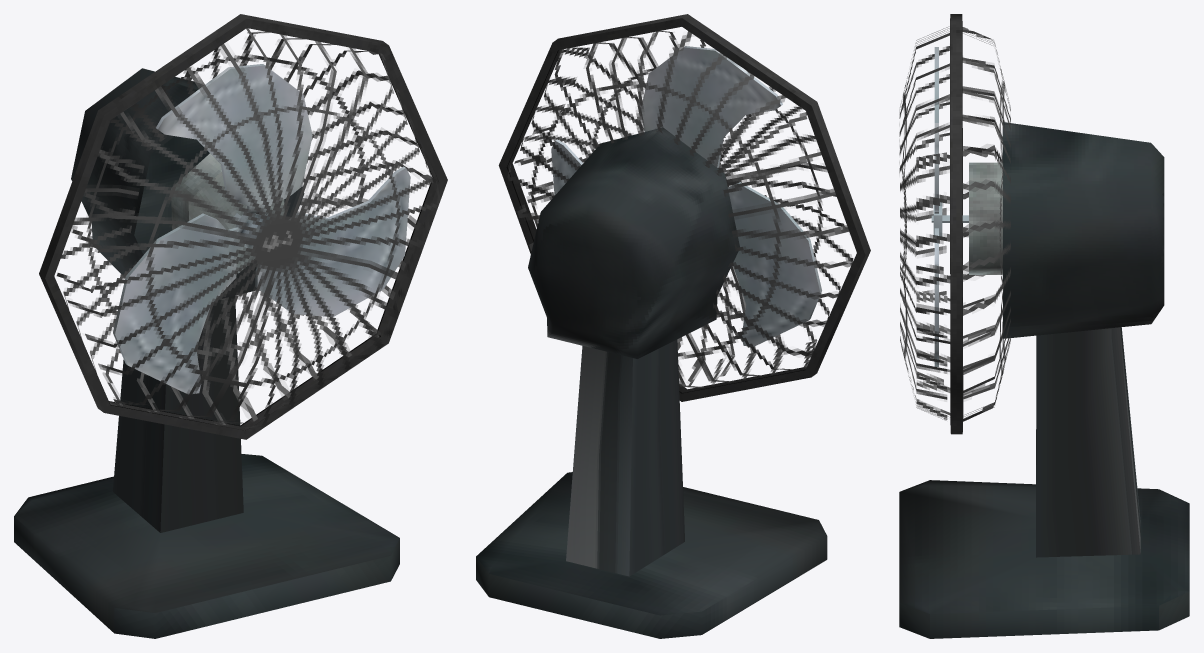
File: SmallFan.gltf
3 renders of one model, left to right at view 1: azimuth 30°, elevation 25°; view 2: azimuth 150°, elevation 25°; view 3: azimuth 270°, elevation 25°, orthographic. The views are drawn at different scales.
Parts seen in each view (by area): view 1: Ventilator_01.001, blades_02; view 2: Ventilator_01.001, blades_02; view 3: Ventilator_01.001, blades_02.
Boxes of the visible parts, x1,y1,x2,y2 form: Ventilator_01.001: (14,14,447,638); blades_02: (113,64,410,394); Ventilator_01.001: (476,14,870,638); blades_02: (551,46,821,346); Ventilator_01.001: (899,14,1189,638); blades_02: (931,47,968,366).
Bounding box in the file's own units: 0.5157 × 0.7006 × 0.3344.
2 materials, 2 textured.
